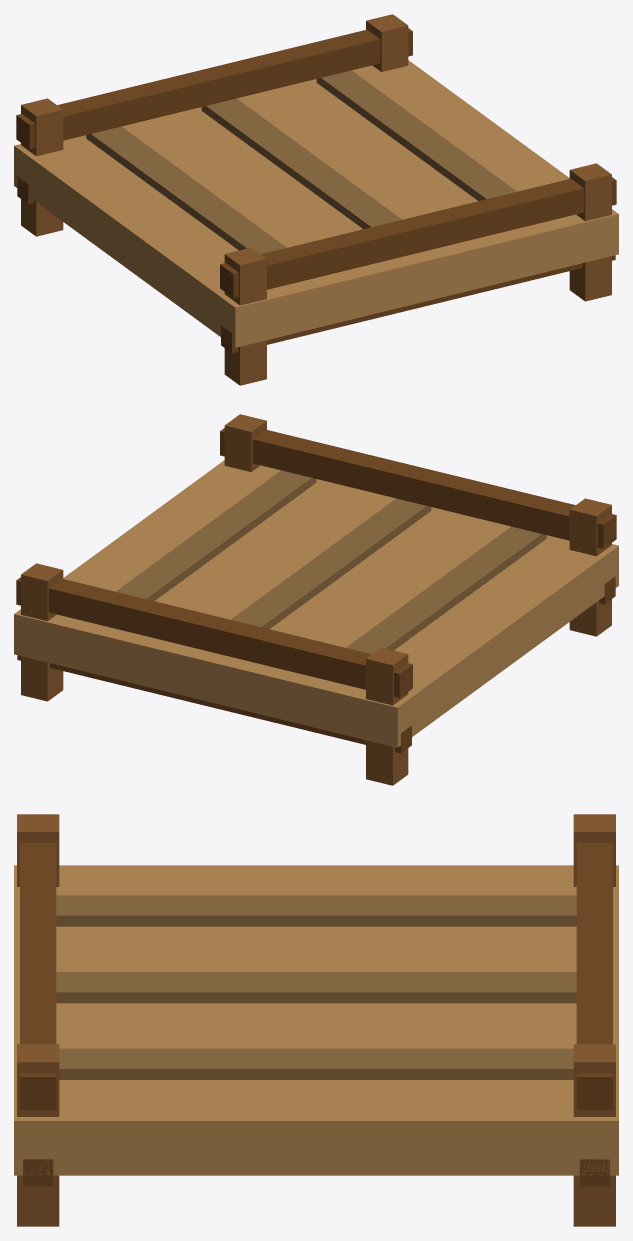
Rendered from bridge.glb.
The picture shows the model from 3 angles, top to bottom: view 1: azimuth 30°, elevation 25°; view 2: azimuth 150°, elevation 25°; view 3: azimuth 270°, elevation 25°; orthographic projection. The views are drawn at different scales.
Visible parts, largest first — view 1: ponte, corrimao, tabua, madeira_escura.011; view 2: ponte, corrimao, tabua, madeira_escura.011; view 3: ponte, tabua, corrimao, madeira_escura.011.
Part boxes in pixels (x1,y1,x2,y2): ponte: (14,60,618,347); corrimao: (16,28,616,353); tabua: (86,70,516,254); madeira_escura.011: (21,14,611,385); ponte: (14,460,618,747); corrimao: (16,428,616,753); tabua: (116,470,546,654); madeira_escura.011: (21,414,611,785); ponte: (14,865,618,1175); tabua: (56,895,576,1079); corrimao: (20,843,612,1186); madeira_escura.011: (17,814,615,1226).
Bounding box in the file's own units: 1 × 0.3 × 1.
